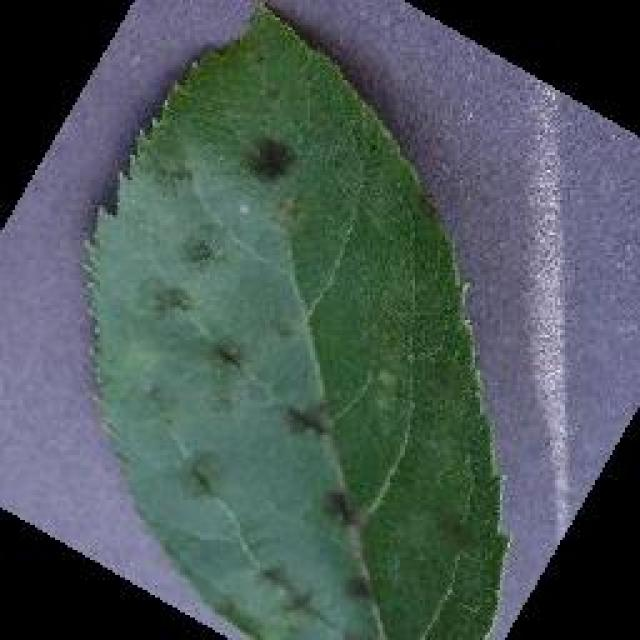apple scab disease: (75, 0, 510, 638)
